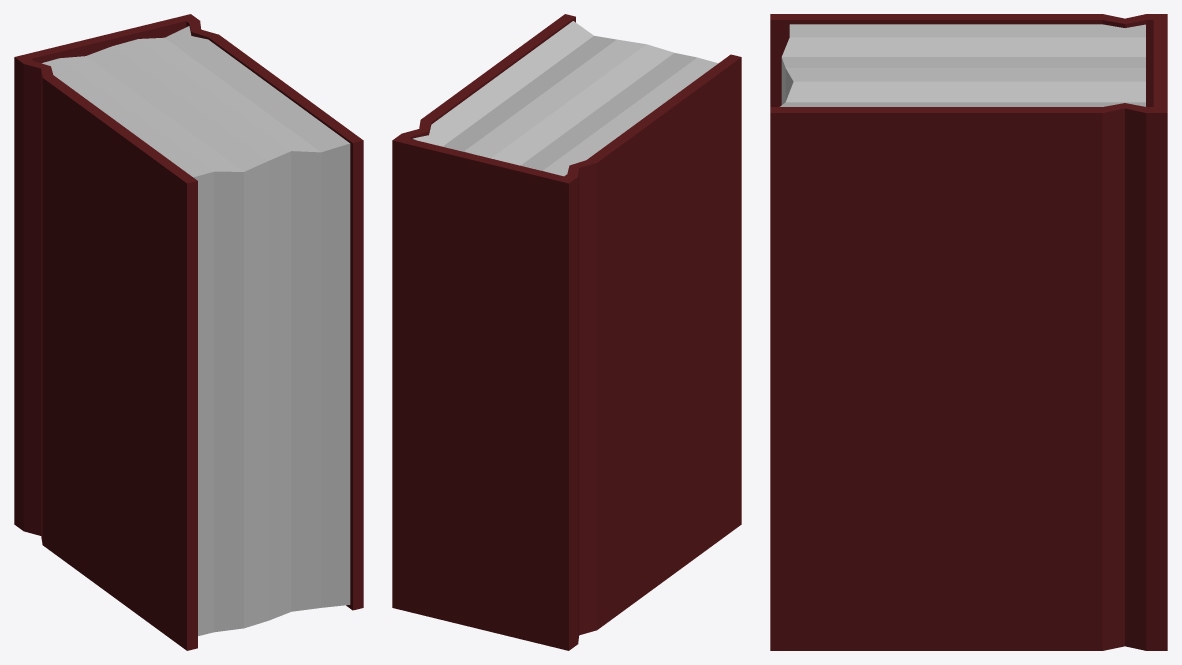
File: book1.fbx
The picture shows the model from 3 angles, left to right: view 1: azimuth 30°, elevation 25°; view 2: azimuth 150°, elevation 25°; view 3: azimuth 270°, elevation 25°; orthographic projection. The views are drawn at different scales.
Parts seen in each view (by area): view 1: book1; view 2: book1; view 3: book1.
Part boxes in pixels (x1,y1,x2,y2): book1: (14, 14, 363, 650); book1: (392, 14, 741, 650); book1: (770, 14, 1167, 650).
Bounding box in the file's own units: 0.1237 × 0.313 × 0.2097.
